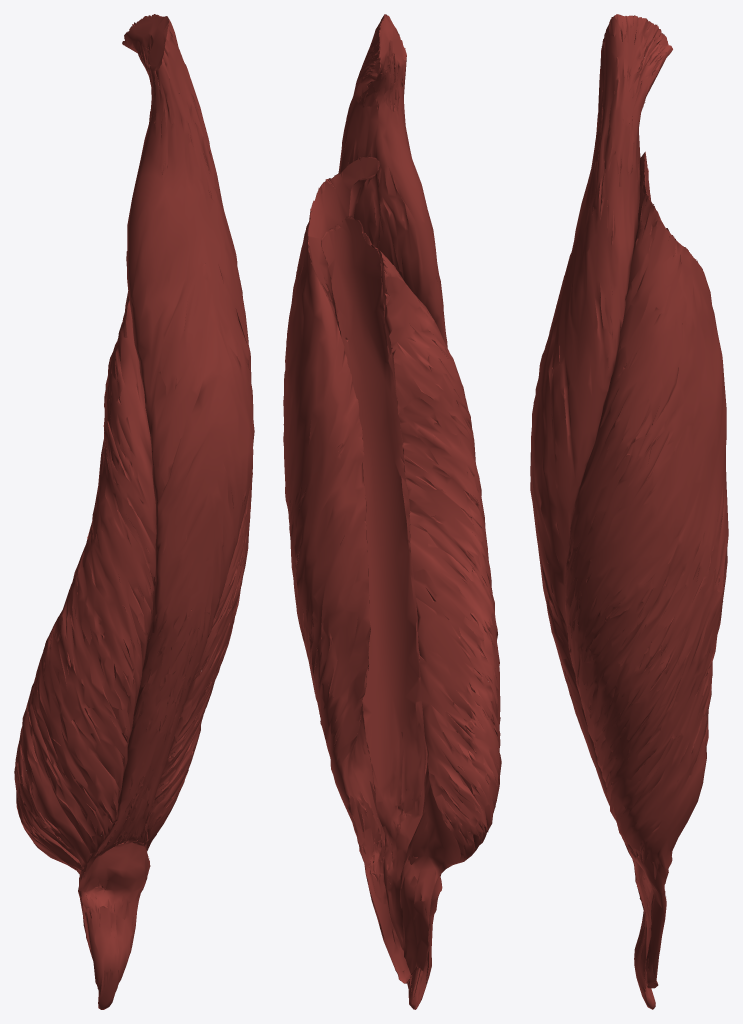
File: explorar-quadriceps_femoris.glb
The picture shows the model from 3 angles, left to right: view 1: azimuth 30°, elevation 25°; view 2: azimuth 150°, elevation 25°; view 3: azimuth 270°, elevation 25°; orthographic projection. The views are drawn at different scales.
Visible parts, largest first — view 1: quadriceps_femoris_left__recto_femoral, quadriceps_femoris_left__vasto_medial, quadriceps_femoris_left__vasto_lateral; view 2: quadriceps_femoris_left__vasto_medial, quadriceps_femoris_left__vasto_lateral, quadriceps_femoris_left__vasto_intermedio, quadriceps_femoris_left__recto_femoral; view 3: quadriceps_femoris_left__vasto_lateral, quadriceps_femoris_left__recto_femoral.
Boxes of the visible parts, left/top/right/bottom form: quadriceps_femoris_left__recto_femoral: left=78, top=14, right=254, bottom=1009; quadriceps_femoris_left__vasto_medial: left=14, top=251, right=156, bottom=981; quadriceps_femoris_left__vasto_lateral: left=122, top=291, right=252, bottom=851; quadriceps_femoris_left__vasto_medial: left=376, top=248, right=501, bottom=974; quadriceps_femoris_left__vasto_lateral: left=283, top=156, right=411, bottom=983; quadriceps_femoris_left__vasto_intermedio: left=321, top=216, right=427, bottom=949; quadriceps_femoris_left__recto_femoral: left=330, top=14, right=447, bottom=1009; quadriceps_femoris_left__vasto_lateral: left=565, top=151, right=728, bottom=988; quadriceps_femoris_left__recto_femoral: left=530, top=14, right=672, bottom=1009.
Bounding box in the file's own units: 0.1215 × 0.5279 × 0.0932.
